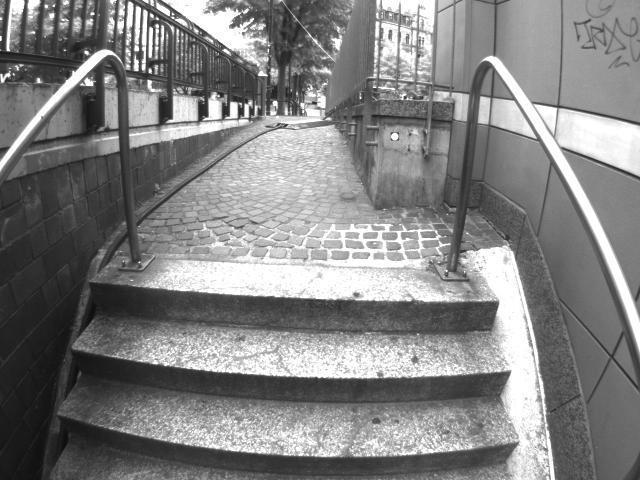Escaleras: (78, 256, 507, 479)
